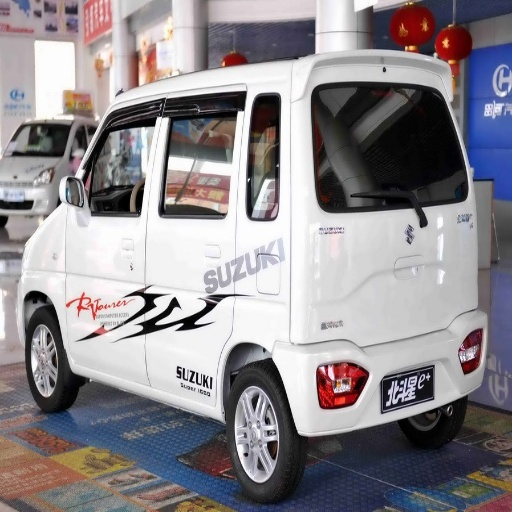back_left_door: (183, 136, 229, 212), (436, 163, 474, 242)
front_glass: (345, 87, 422, 136)
hood: (396, 237, 461, 268)
trunk: (274, 218, 465, 367)
